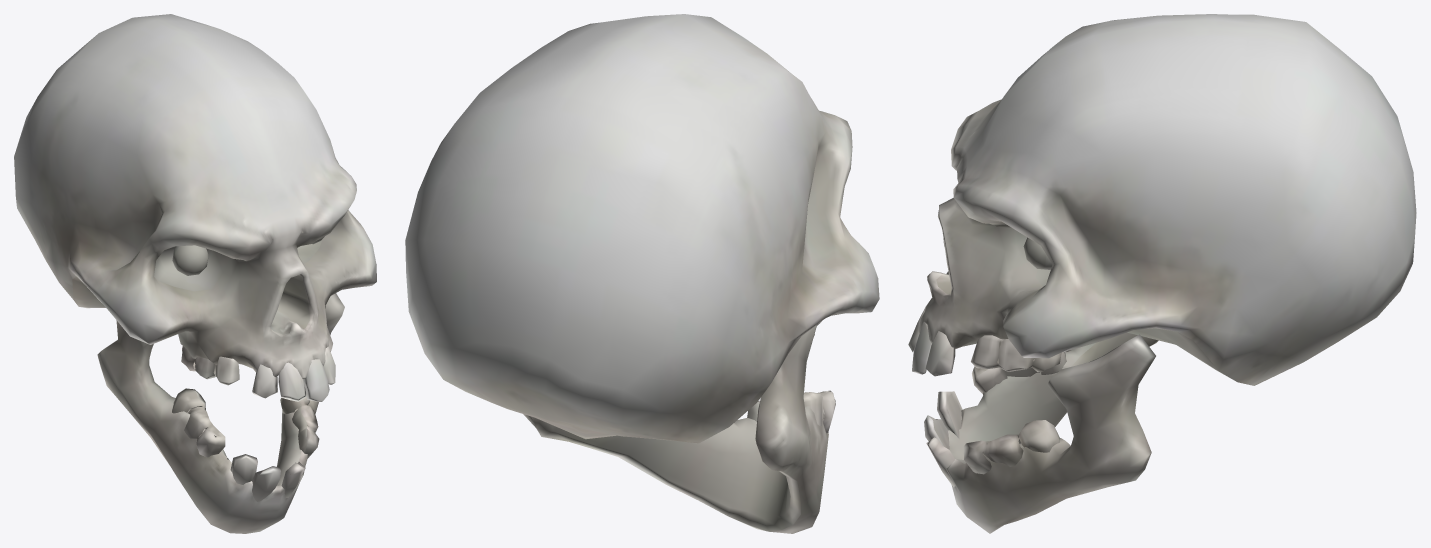
The picture shows the model from 3 angles, left to right: view 1: azimuth 30°, elevation 25°; view 2: azimuth 150°, elevation 25°; view 3: azimuth 270°, elevation 25°; orthographic projection. The views are drawn at different scales.
Parts seen in each view (by area): view 1: SM_Skeleton_Sitting_Quest_Head_01_LOD0; view 2: SM_Skeleton_Sitting_Quest_Head_01_LOD0; view 3: SM_Skeleton_Sitting_Quest_Head_01_LOD0.
Boxes of the visible parts, x1,y1,x2,y2 form: SM_Skeleton_Sitting_Quest_Head_01_LOD0: (14,14,376,533); SM_Skeleton_Sitting_Quest_Head_01_LOD0: (405,14,879,533); SM_Skeleton_Sitting_Quest_Head_01_LOD0: (908,14,1416,533).
Bounding box in the file's own units: 0.1649 × 0.2538 × 0.2272.
1 material, 1 textured.
